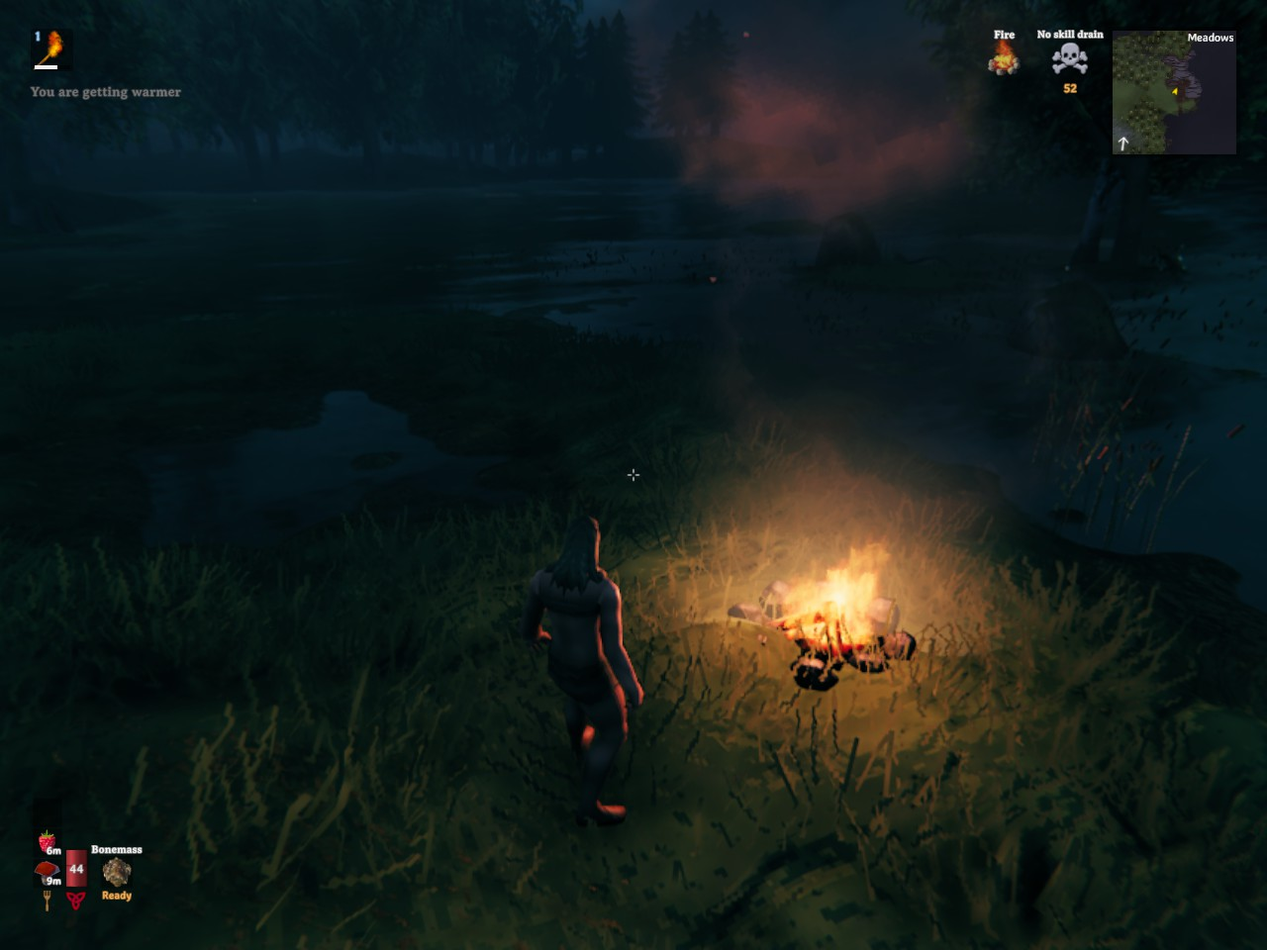Fire: (728, 543, 924, 690)
